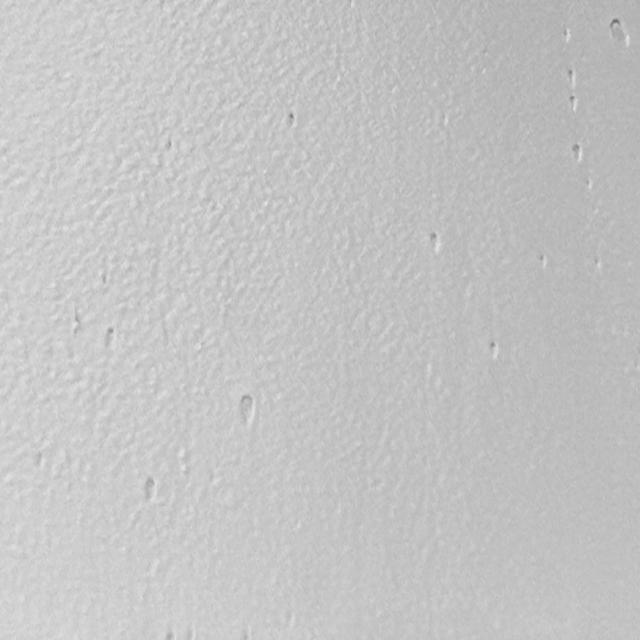pin holes: (235, 391, 259, 427), (606, 17, 630, 48), (141, 476, 162, 504), (425, 230, 444, 256), (485, 338, 504, 363), (103, 324, 120, 349), (570, 142, 586, 165), (286, 112, 302, 133), (568, 93, 582, 114), (566, 67, 578, 88), (560, 25, 572, 46), (536, 253, 550, 270), (585, 175, 593, 190)
